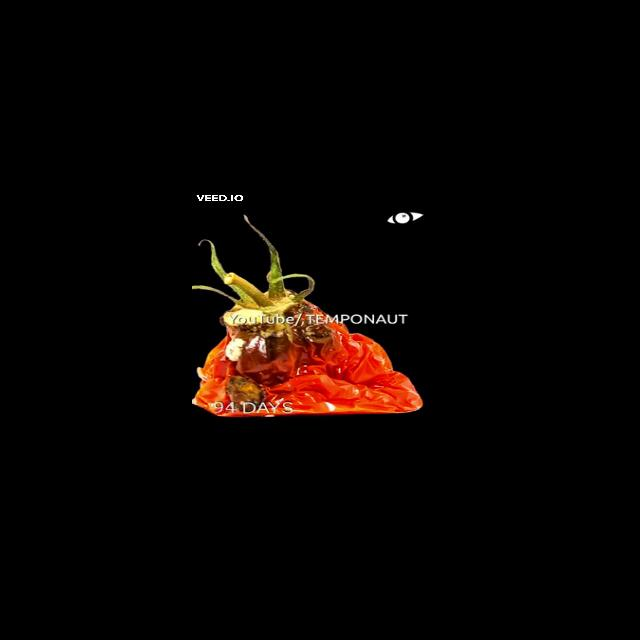tomato: (193, 262, 429, 426)
